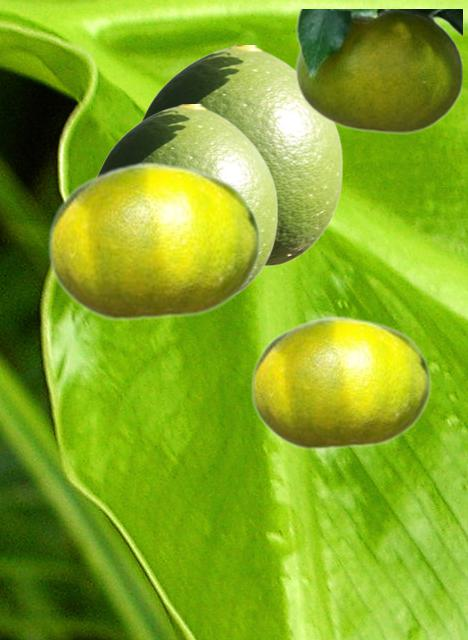dalandan: (141, 45, 342, 265), (47, 161, 260, 321), (97, 104, 277, 288), (250, 315, 430, 450), (295, 9, 461, 133)
